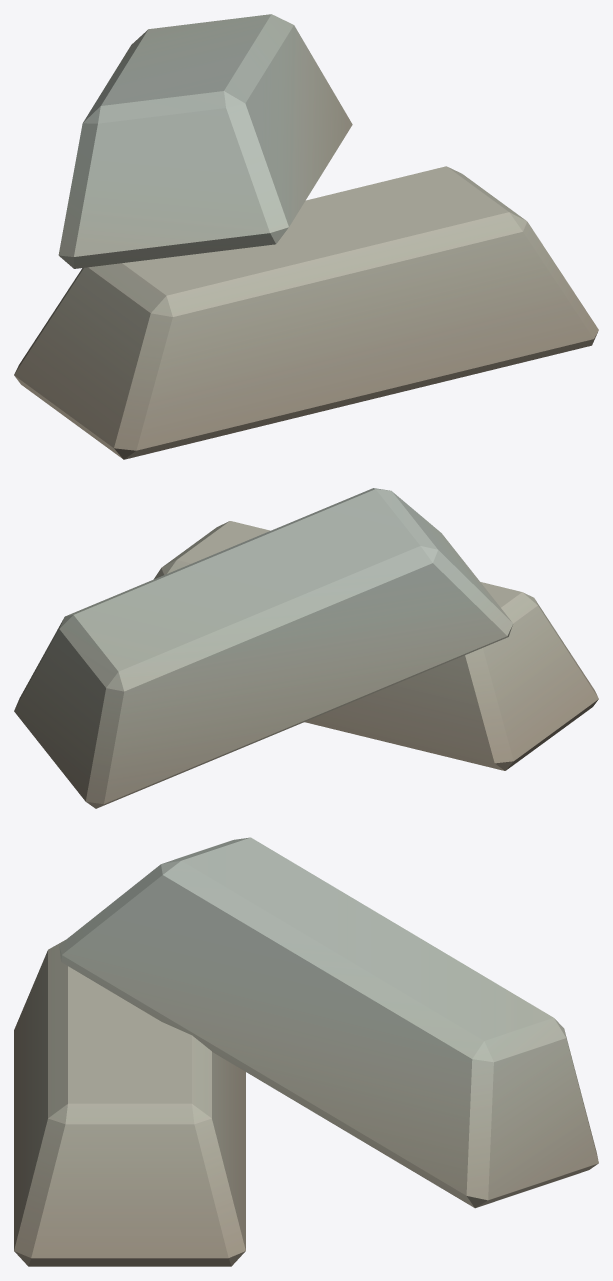
The model's file is Iron_ingot.fbx.
The picture shows the model from 3 angles, top to bottom: view 1: azimuth 30°, elevation 25°; view 2: azimuth 150°, elevation 25°; view 3: azimuth 270°, elevation 25°; orthographic projection. The views are drawn at different scales.
Visible parts, largest first — view 1: Iron_ingot; view 2: Iron_ingot; view 3: Iron_ingot.
Part boxes in pixels (left/top/right/bottom): Iron_ingot: left=14, top=14, right=598, bottom=459; Iron_ingot: left=14, top=488, right=598, bottom=808; Iron_ingot: left=14, top=837, right=598, bottom=1266.
Bounding box in the file's own units: 76.22 × 40.37 × 80.56.
